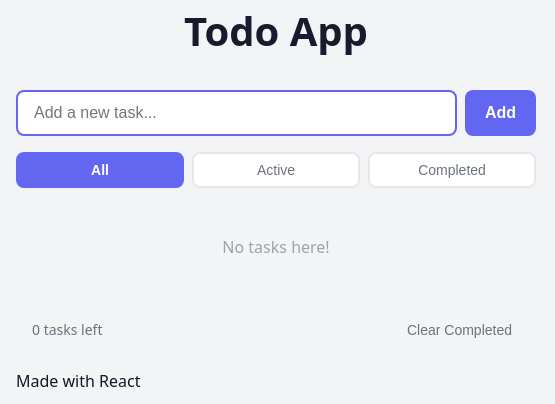
Test: Todo App › shows task count
Type "Task A" into the field with placeholder "Add a new task...".
click(236, 113); type("Task A")  # box [16, 90, 457, 136]
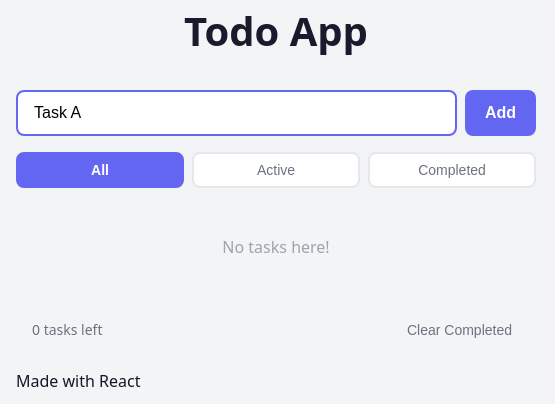
Click the button "Add".
click(500, 113)  # box [465, 90, 536, 136]
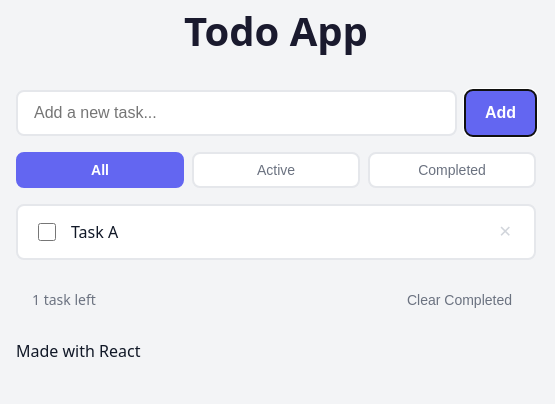
Check: the text "1 task left" is shown, box [32, 290, 96, 309]
